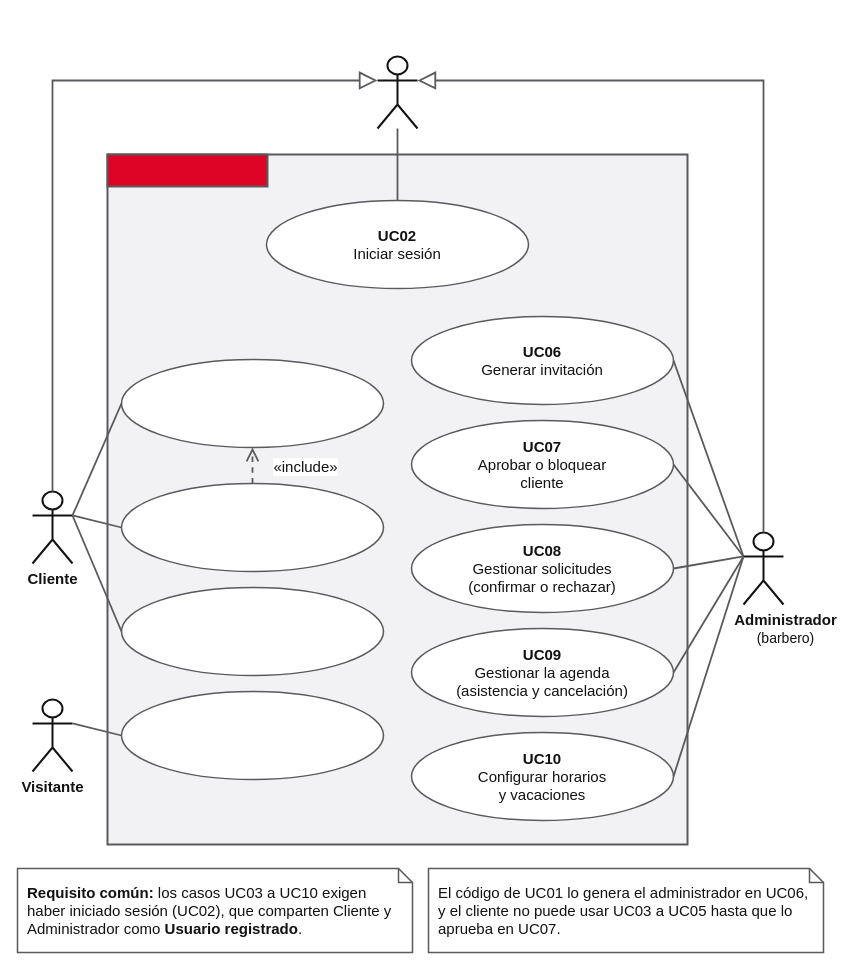
Image size: 855x970. Some labels were removed from this diagram. The shapes that lost their labels are listed below. From the top down, each one's centre as x and y in pixels, then its label:
At [397,92]: "Usuario registrado (abstracto)".
At [187,170]: "Clandestino".
At [252,403]: "UC03 Consultar disponibilidad".
At [252,527]: "UC04 Solicitar cita".
At [252,631]: "UC05 Gestionar mis citas (ver y cancelar)".
At [252,735]: "UC01 Registrarse con código".
